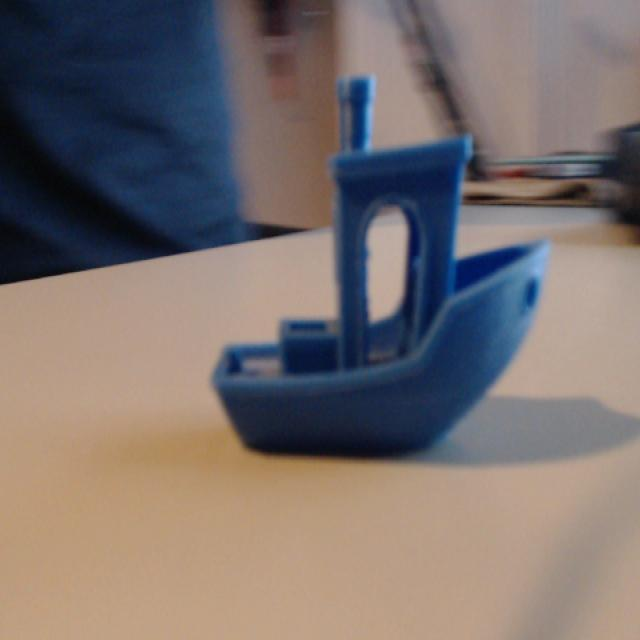benchy: (208, 69, 552, 460)
